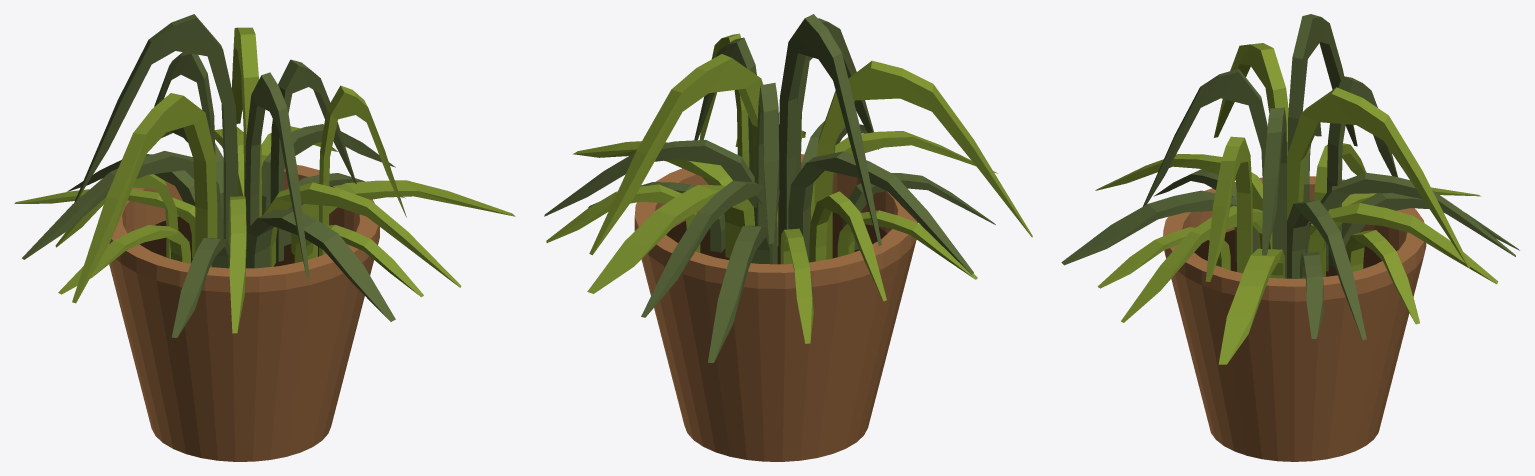
Rendered from 1 plantMid lightestBrown(1).fbx.
3 renders of one model, left to right at view 1: azimuth 30°, elevation 25°; view 2: azimuth 150°, elevation 25°; view 3: azimuth 270°, elevation 25°, orthographic. The views are drawn at different scales.
Parts seen in each view (by area): view 1: 1 plantMid lightestBrown; view 2: 1 plantMid lightestBrown; view 3: 1 plantMid lightestBrown.
Part boxes in pixels (box(x1,y1,x2,y2)): 1 plantMid lightestBrown: box(14, 14, 515, 461); 1 plantMid lightestBrown: box(544, 14, 1032, 461); 1 plantMid lightestBrown: box(1061, 14, 1519, 461).
Size of the model in its own units: 93.6 by 82.98 by 88.34.
